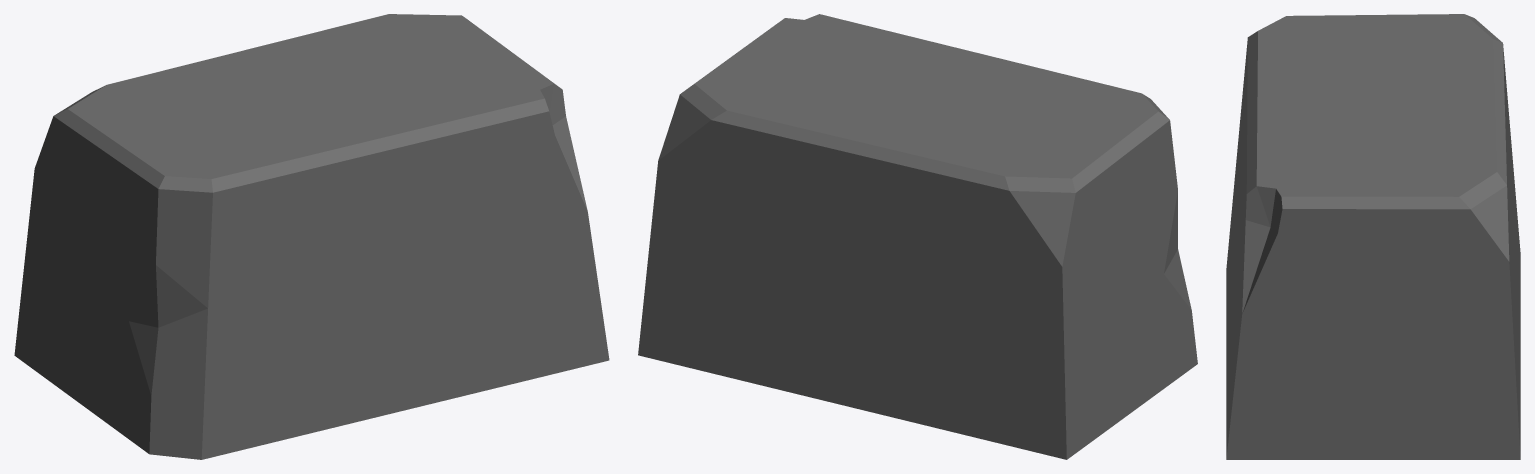
Rendered from BlockStoneC.fbx.
The picture shows the model from 3 angles, left to right: view 1: azimuth 30°, elevation 25°; view 2: azimuth 150°, elevation 25°; view 3: azimuth 270°, elevation 25°; orthographic projection. The views are drawn at different scales.
Parts seen in each view (by area): view 1: BlockStoneC; view 2: BlockStoneC; view 3: BlockStoneC.
Boxes of the visible parts, x1=… form: BlockStoneC: x1=14, y1=14, x2=609, y2=459; BlockStoneC: x1=638, y1=14, x2=1197, y2=459; BlockStoneC: x1=1226, y1=14, x2=1520, y2=459.
Size of the model in its own units: 65.5 by 37.2 by 39.52.
